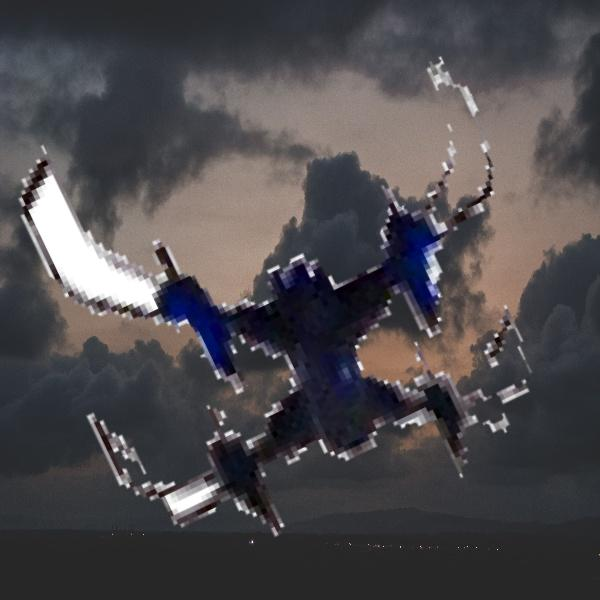drone: (33, 27, 570, 564)
